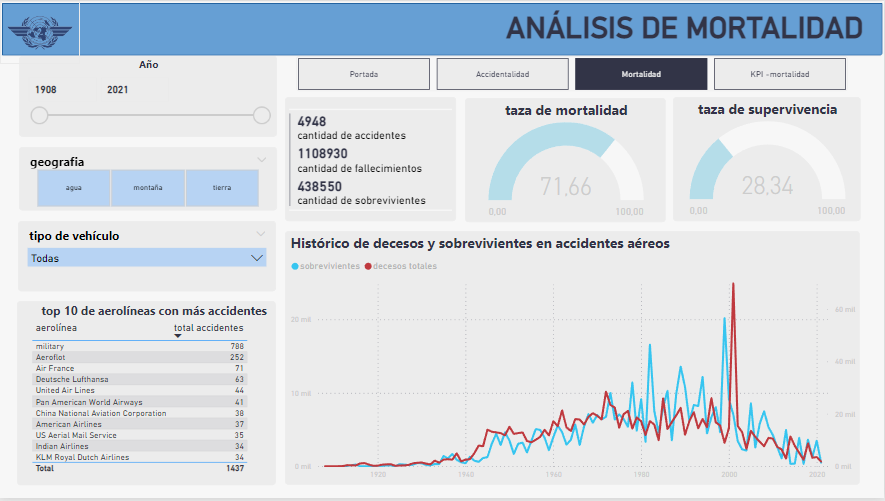

What the dashboard file says about the page in this screenshot:
{"tool":"powerbi","page":{"name":"Mortalidad","canvas":[1280,720],"ordinal":2},"visuals":[{"type":"lineChart","title":"Histórico de decesos y sobrevivientes en accidentes aéreos","fields":{"Category":["calendar.Fecha.Variación.Jerarquía de fechas.Año"],"Y":["measures_model.average_survivors"],"Y2":["measures_model.average_total_deaths"]},"box":[413,333.3,833.3,368.1],"z":0},{"type":"slicer","title":"Año","fields":{"Values":["calendar.Fecha.Variación.Jerarquía de fechas.Año"]},"box":[27.5,79.7,373.9,117.4],"z":1000},{"type":"tableEx","title":"top 10 de aerolíneas con más accidentes","fields":{"Values":["fac_incidentes_aviacion.airline","fac_incidentes_aviacion.id_incident"]},"box":[25,435,375,266.7],"z":2000},{"type":"slicer","fields":{"Values":["dim_type_aircraft.type_aircraft"]},"box":[25.8,318.6,374.2,101.6],"z":3000},{"type":"slicer","fields":{"Values":["dim_geography.geography"]},"box":[27.4,211.9,374.2,91.9],"z":4000},{"type":"gauge","fields":{"Y":["measures_model.average_mortality"]},"box":[673.9,140.6,291.3,179.7],"z":5000},{"type":"multiRowCard","fields":{"Values":["fac_incidentes_aviacion.id_incident","fac_incidentes_aviacion.number_deaths","measures_model.average_survivors"]},"box":[413,139.1,247.8,179.7],"z":6000},{"type":"shape","box":[0,0,1279.7,79.7],"z":7000},{"type":"image","box":[0,0,115.9,91.3],"z":8000},{"type":"pageNavigator","box":[429.6,80.3,800,50.7],"z":9000},{"type":"gauge","fields":{"Y":["measures_model.average_survivors%"]},"box":[974.7,138.7,272,180],"z":9001},{"type":"textbox","box":[536.6,8.5,719.7,60.6],"z":9002}]}

Visuals, with their boxes in screenshot pixels (x1, y1, x2, y2), scaled from the page's 1280x720 canvas onto the 885x501 screenshot:
"Histórico de decesos y sobrevivientes en accidentes aéreos" lineChart: [x1=286, y1=232, x2=862, y2=488]
"Año" slicer: [x1=19, y1=55, x2=278, y2=137]
"top 10 de aerolíneas con más accidentes" tableEx: [x1=17, y1=303, x2=277, y2=488]
slicer - dim_type_aircraft.type_aircraft: [x1=18, y1=222, x2=277, y2=292]
slicer - dim_geography.geography: [x1=19, y1=147, x2=278, y2=211]
gauge - measures_model.average_mortality: [x1=466, y1=98, x2=667, y2=223]
multiRowCard - fac_incidentes_aviacion.id_incident x fac_incidentes_aviacion.number_deaths: [x1=286, y1=97, x2=457, y2=222]
shape: [x1=0, y1=0, x2=884, y2=55]
image: [x1=0, y1=0, x2=80, y2=64]
pageNavigator: [x1=297, y1=56, x2=850, y2=91]
gauge - measures_model.average_survivors%: [x1=674, y1=97, x2=862, y2=222]
textbox: [x1=371, y1=6, x2=869, y2=48]
